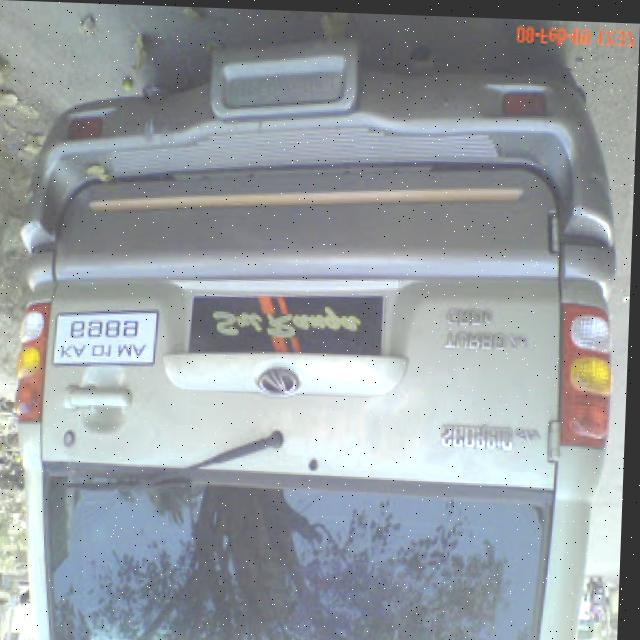plate: (191, 287, 388, 359)
